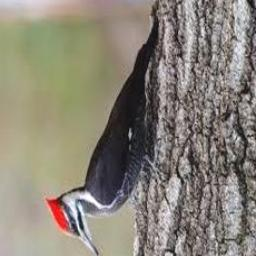Woodpecker: (45, 8, 164, 256)
